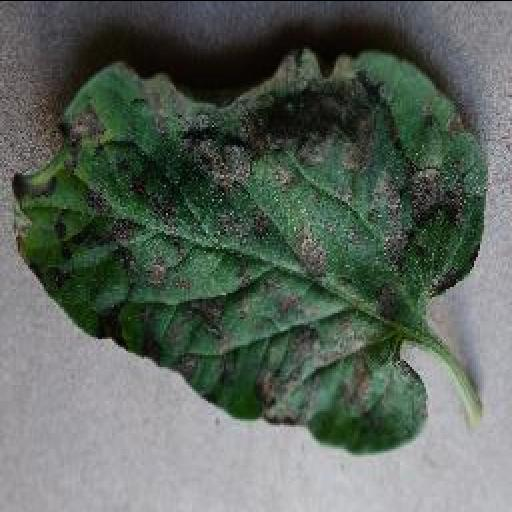disease_tomato: (8, 46, 492, 460)
